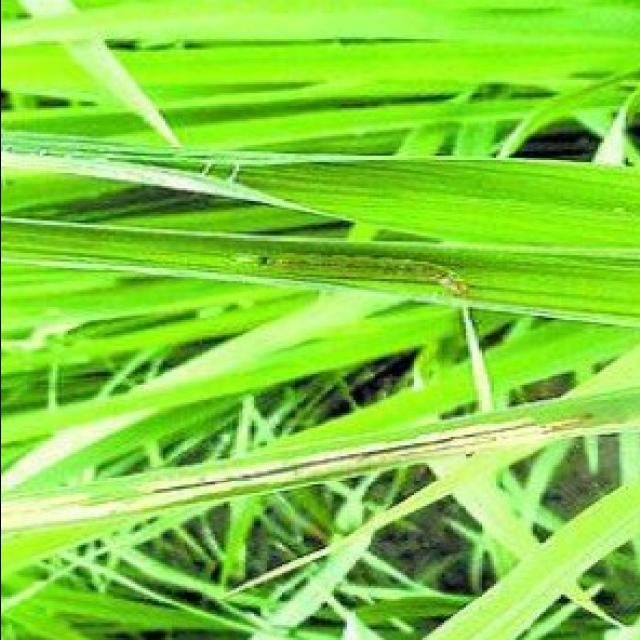rice leaf roller: (234, 253, 467, 294)
